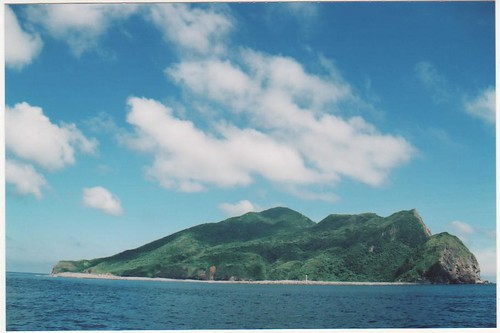turtleIsland: (36, 199, 481, 284)
